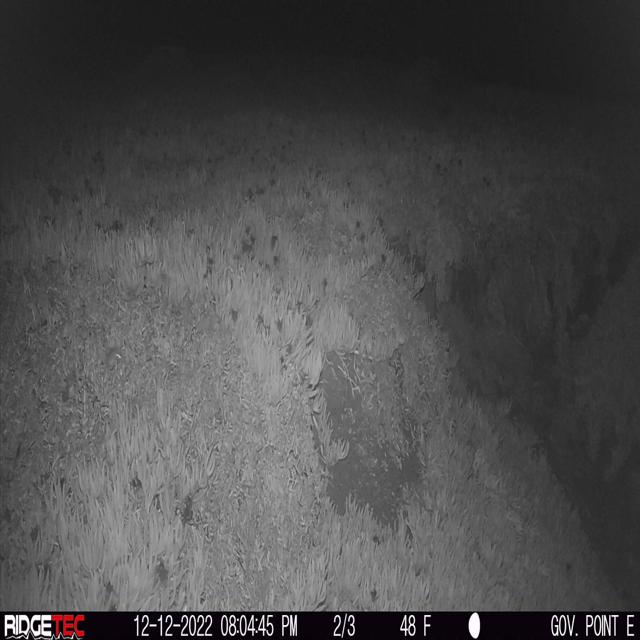rodent: (100, 335, 126, 378)
